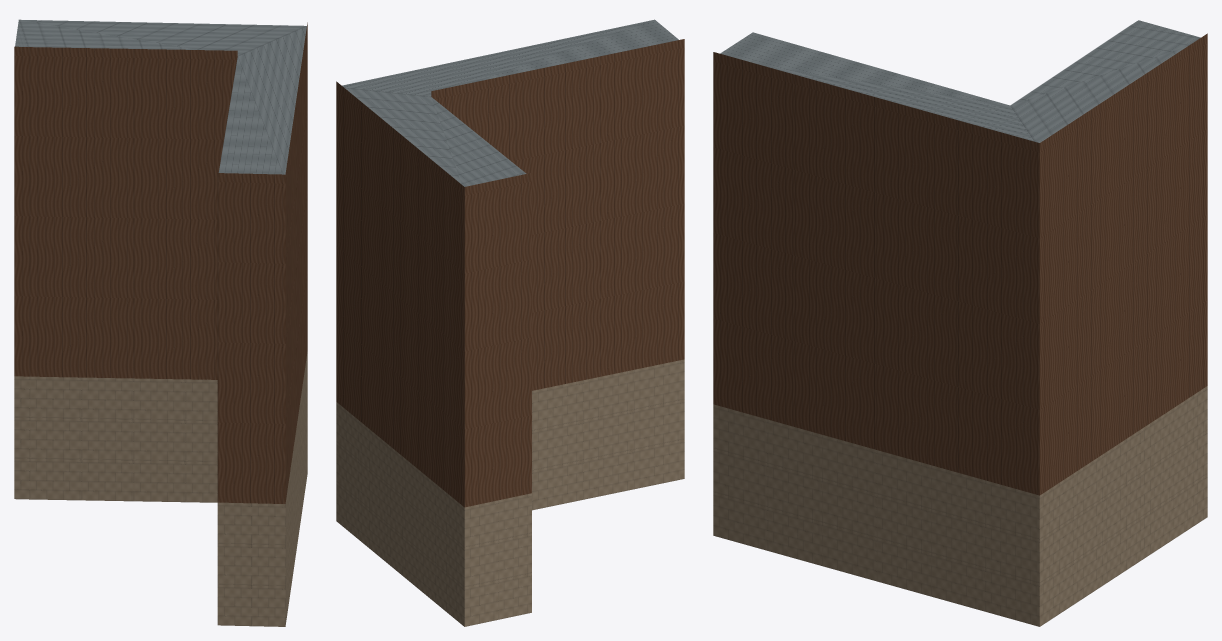
The model's file is bld_c0_-3_556.gltf.
3 views of the same model, side by side, from view 1: azimuth 30°, elevation 25°; view 2: azimuth 150°, elevation 25°; view 3: azimuth 270°, elevation 25° (orthographic). The views are drawn at different scales.
Visible parts, largest first — view 1: bld_c0_-3_556; view 2: bld_c0_-3_556; view 3: bld_c0_-3_556.
Part boxes in pixels (x1,y1,x2,y2): bld_c0_-3_556: (14, 19, 307, 626); bld_c0_-3_556: (336, 19, 684, 626); bld_c0_-3_556: (713, 20, 1207, 626).
Bounding box in the file's own units: 10.75 × 18.78 × 17.4.
4 materials, 4 textured.
